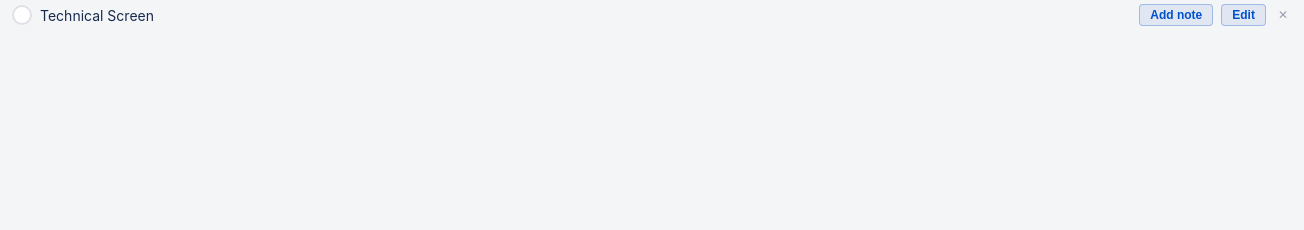
StageItem › completing a stage › shows the completion dialog when the checkbox is clicked on an incomplete stage
Click the button titled "Mark complete".
click(22, 15)  # box [12,5,32,25]
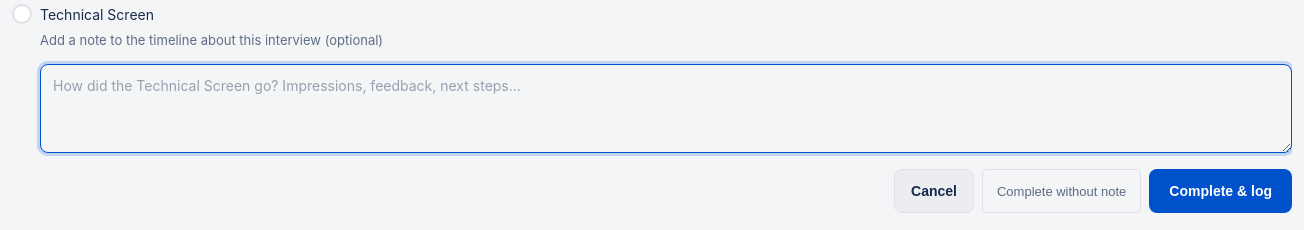
Result: the text "Add a note to the timeline about this interview (optional)" is shown at [40,32,383,48]
Result: the button "Complete without note" is shown at [982,169,1141,213]
Result: the button "Complete & log" is shown at [1149,169,1292,213]
